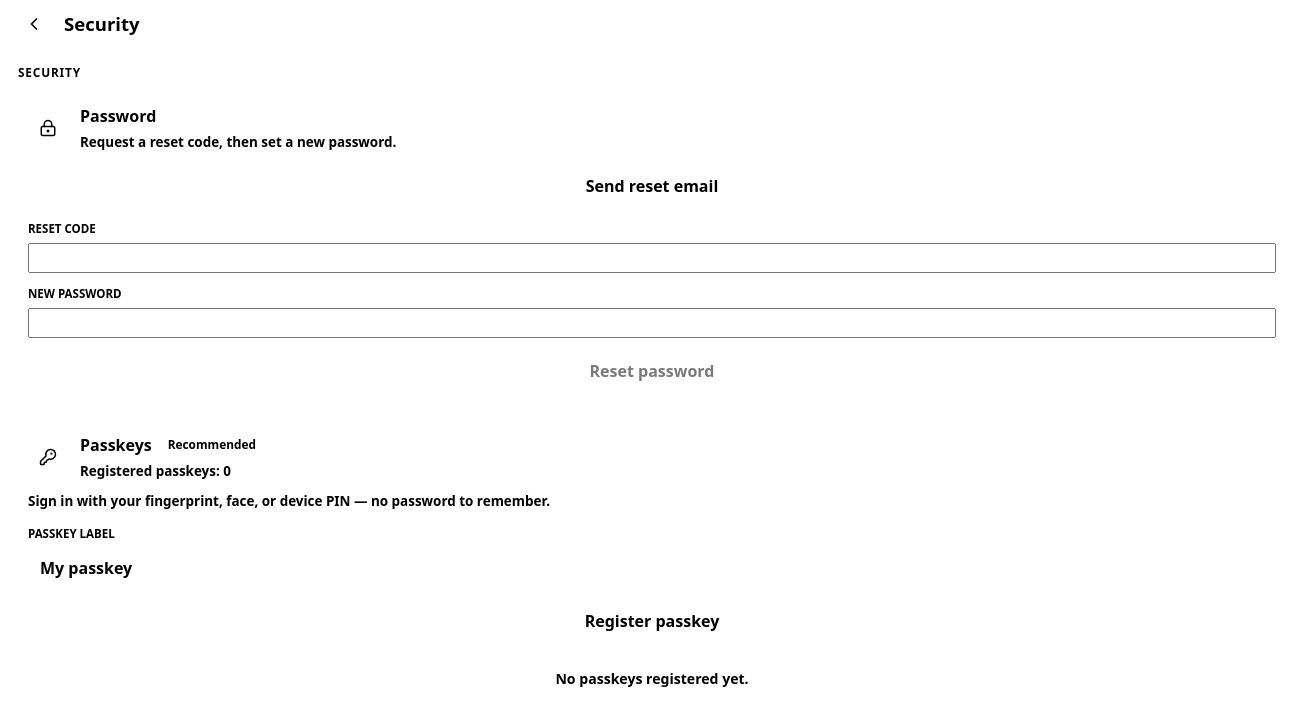
Test case: MeView › requests and confirms a password reset from the security page
Click the button "Send reset email": coordinates (652, 186) [28,165,1276,207]
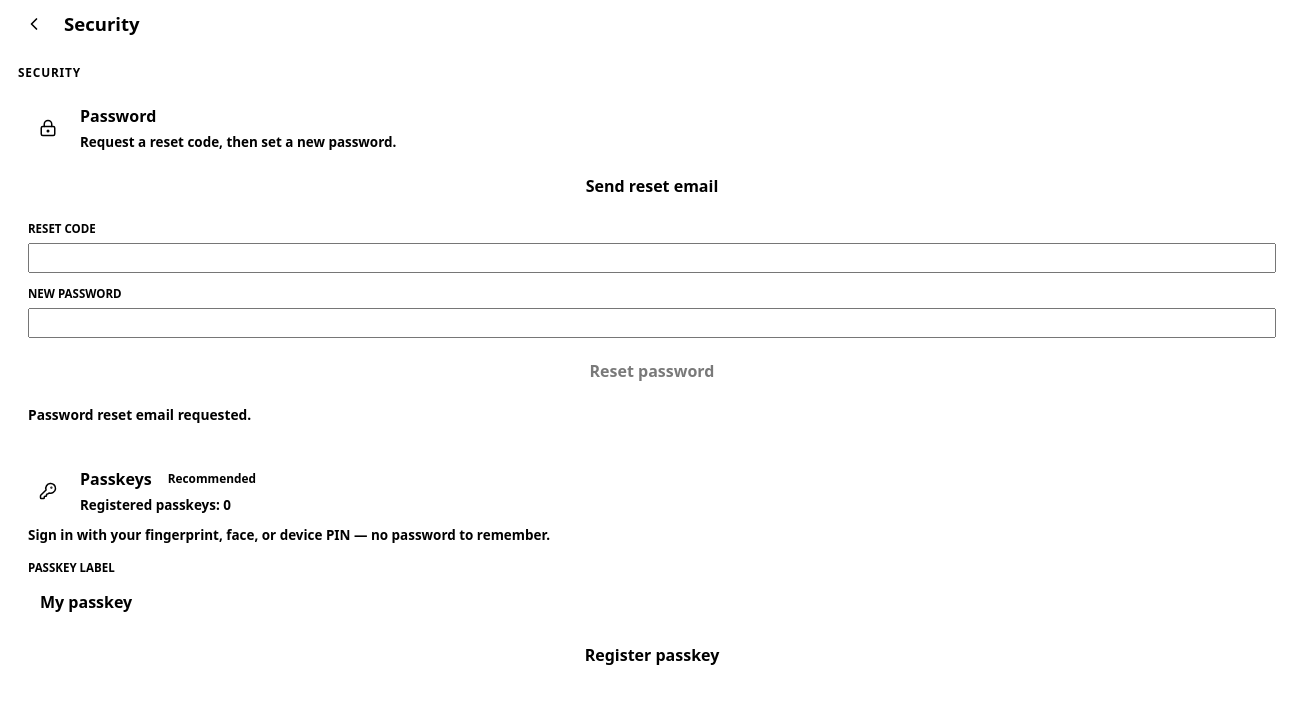
Expected: the text "Password reset email requested." is shown, [28,405,251,424]
In the field labelled "Reset code": coordinates (652, 258) [28,243,1276,273], type "123456"
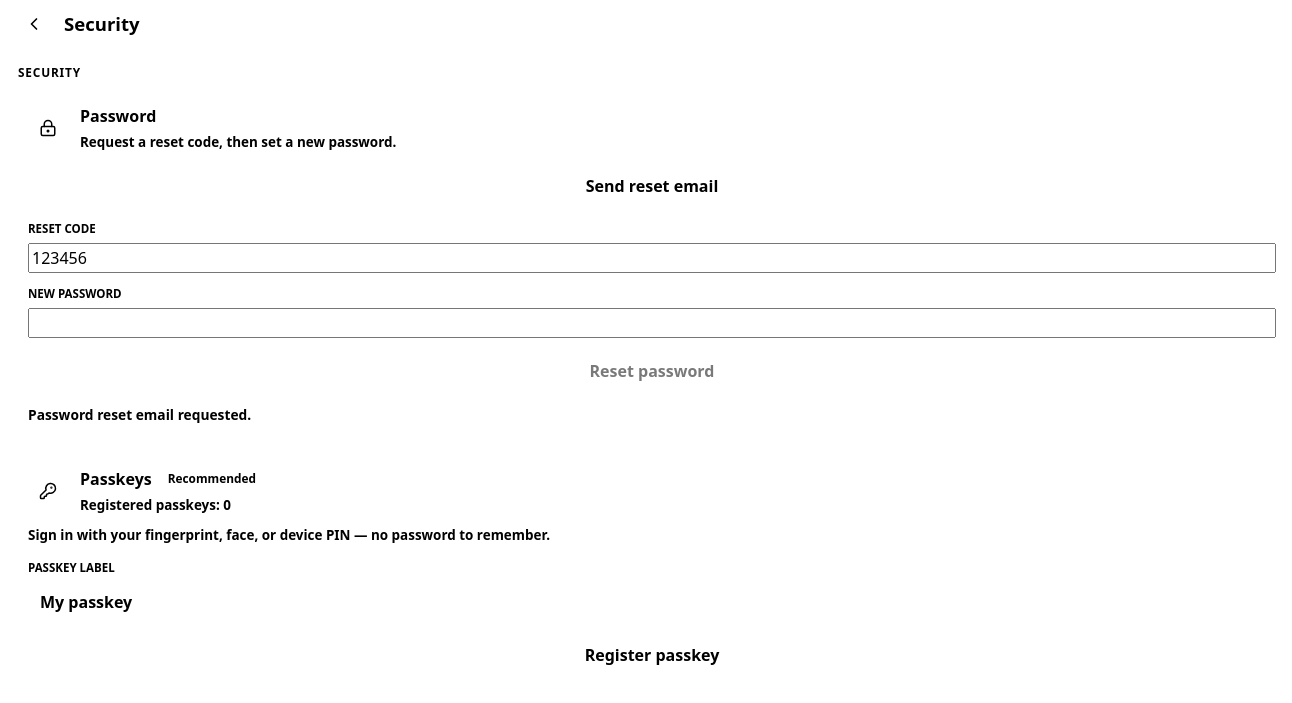
In the password field labelled "New password": coordinates (652, 323) [28,308,1276,338], type "new correct horse battery staple"
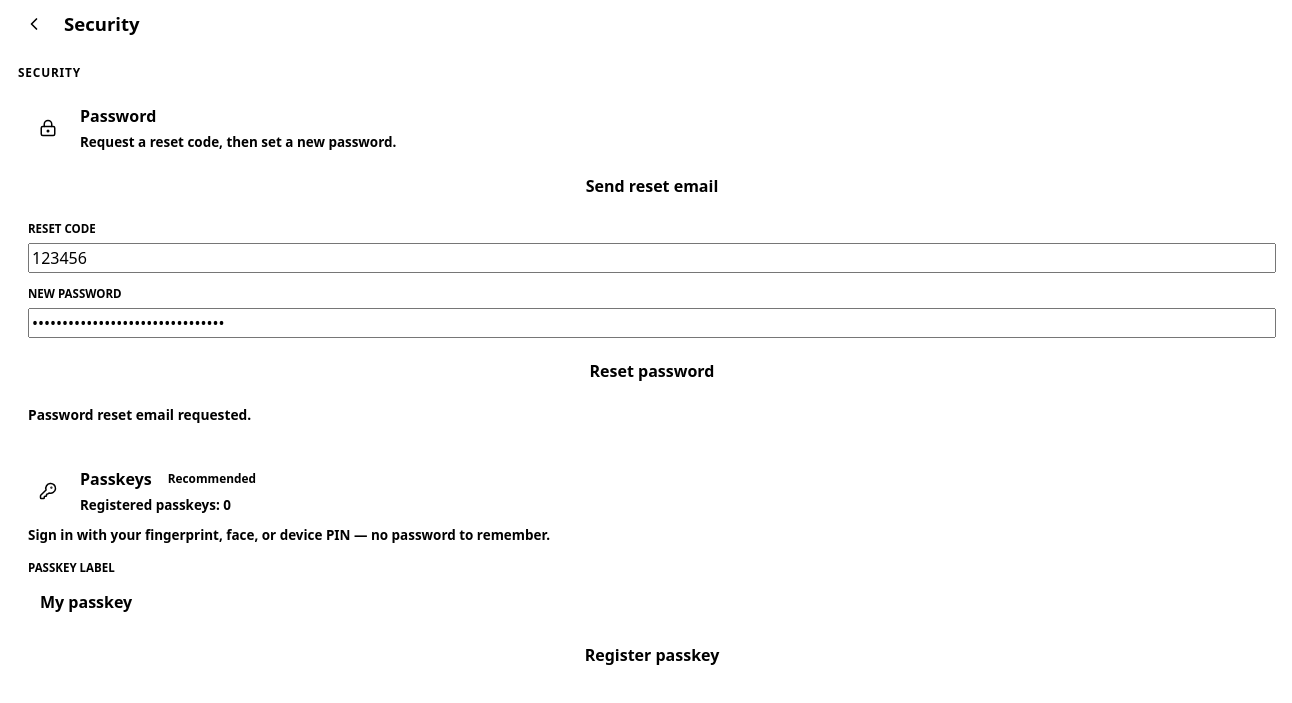
Click the button "Reset password": coordinates (652, 371) [28,350,1276,392]
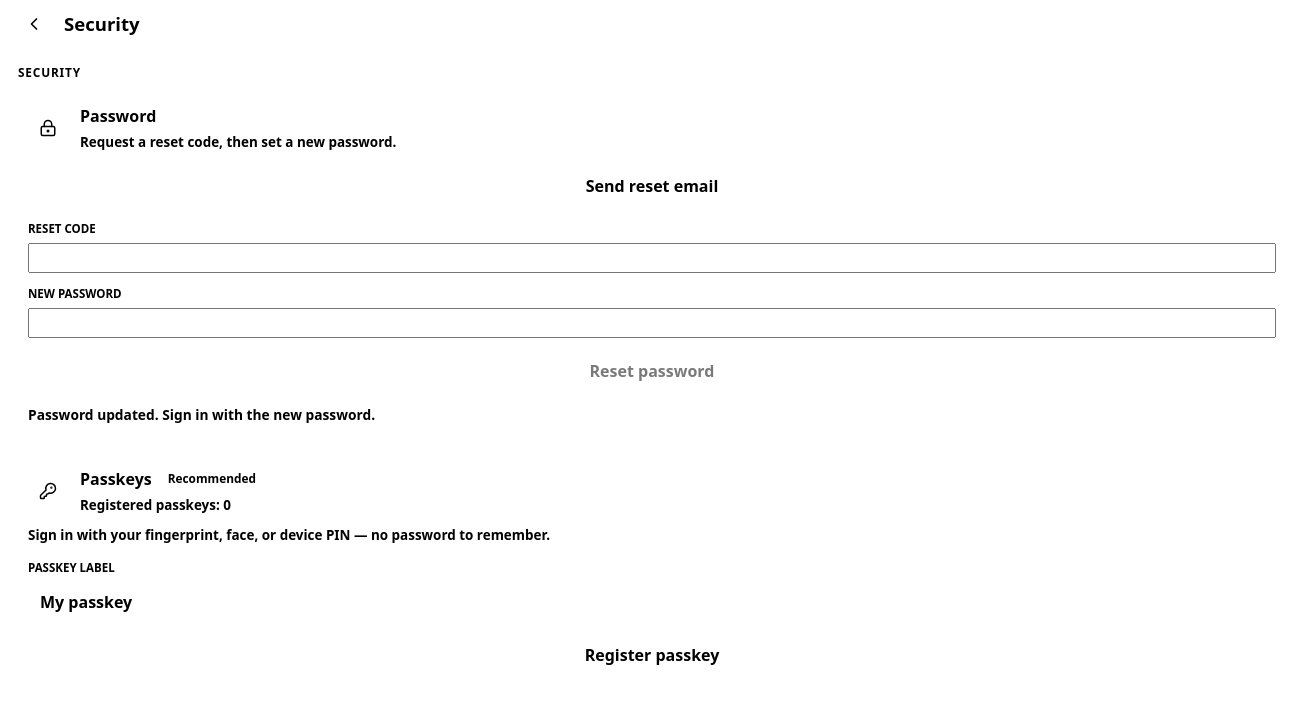
Expected: the text "Password updated. Sign in with the new password." is shown, [28,405,375,424]
